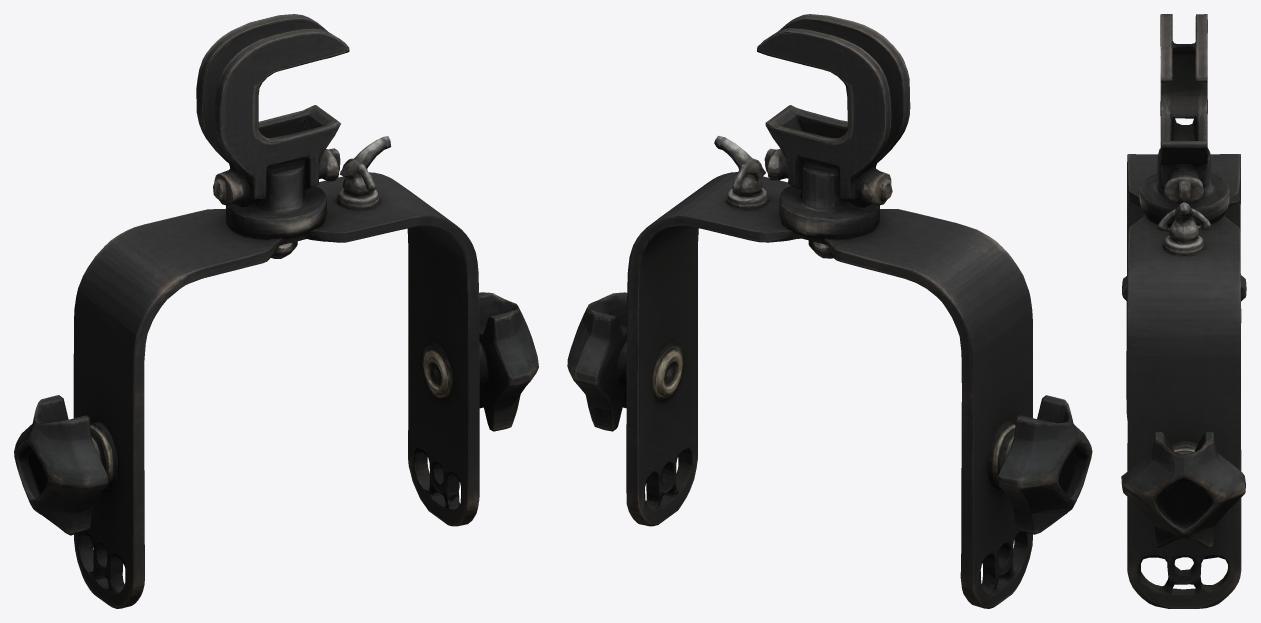
The model's file is stage-lamp-yoke.glb.
3 renders of one model, left to right at view 1: azimuth 30°, elevation 25°; view 2: azimuth 150°, elevation 25°; view 3: azimuth 270°, elevation 25°, orthographic. The views are drawn at different scales.
Parts seen in each view (by area): view 1: geometry_0; view 2: geometry_0; view 3: geometry_0.
Part boxes in pixels (x1,y1,x2,y2): geometry_0: (14,14,538,608); geometry_0: (567,14,1092,608); geometry_0: (1121,14,1246,608).
Size of the model in its own units: 0.9797 by 0.9999 by 0.2259.
Materials: 1 (1 with a texture image).
